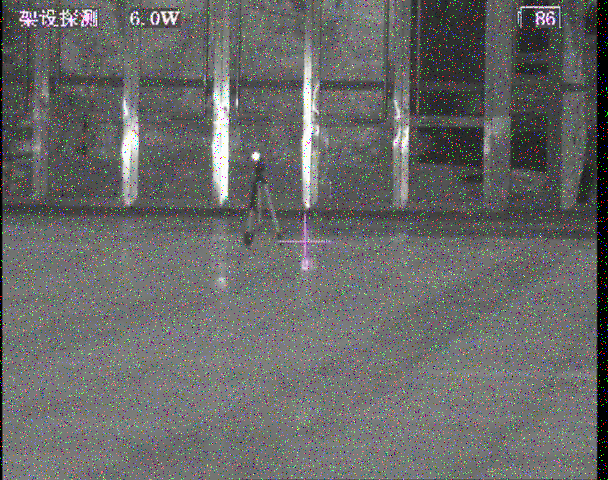my: (251, 151, 261, 161)
